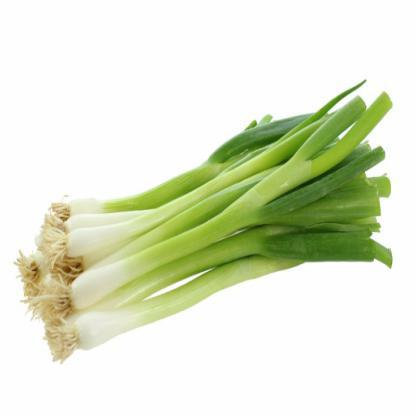green onion: (24, 108, 402, 358)
